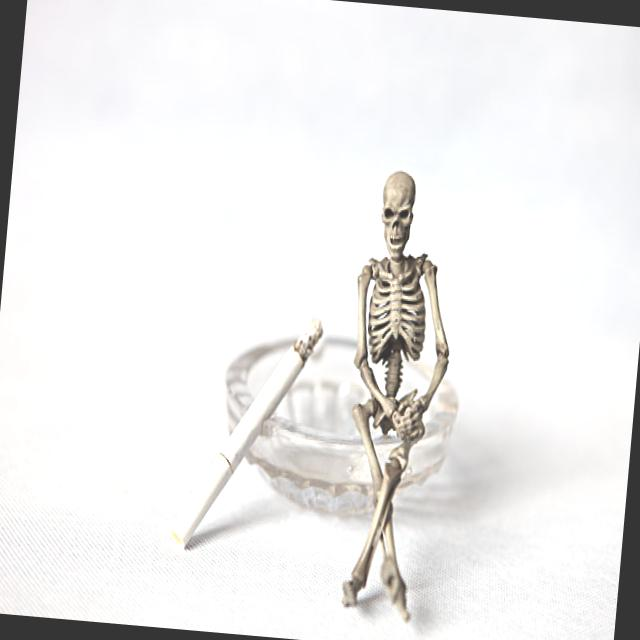smoke: (165, 302, 326, 567)
